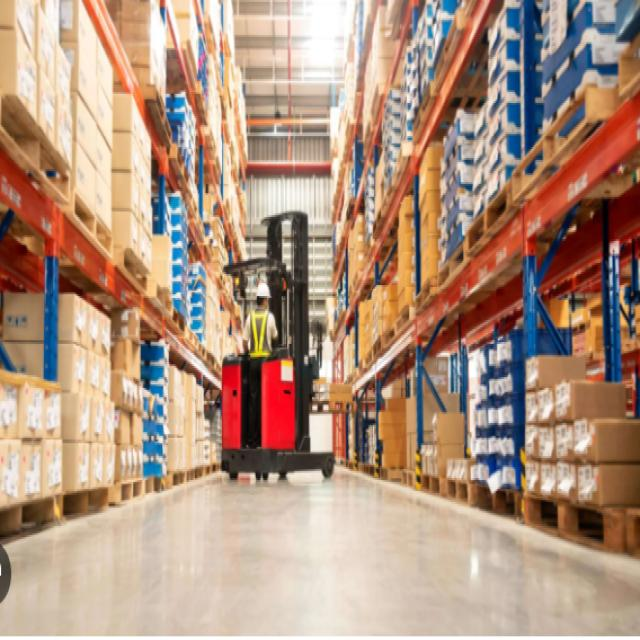helmet: (254, 281, 273, 310)
vest: (248, 307, 274, 362)
